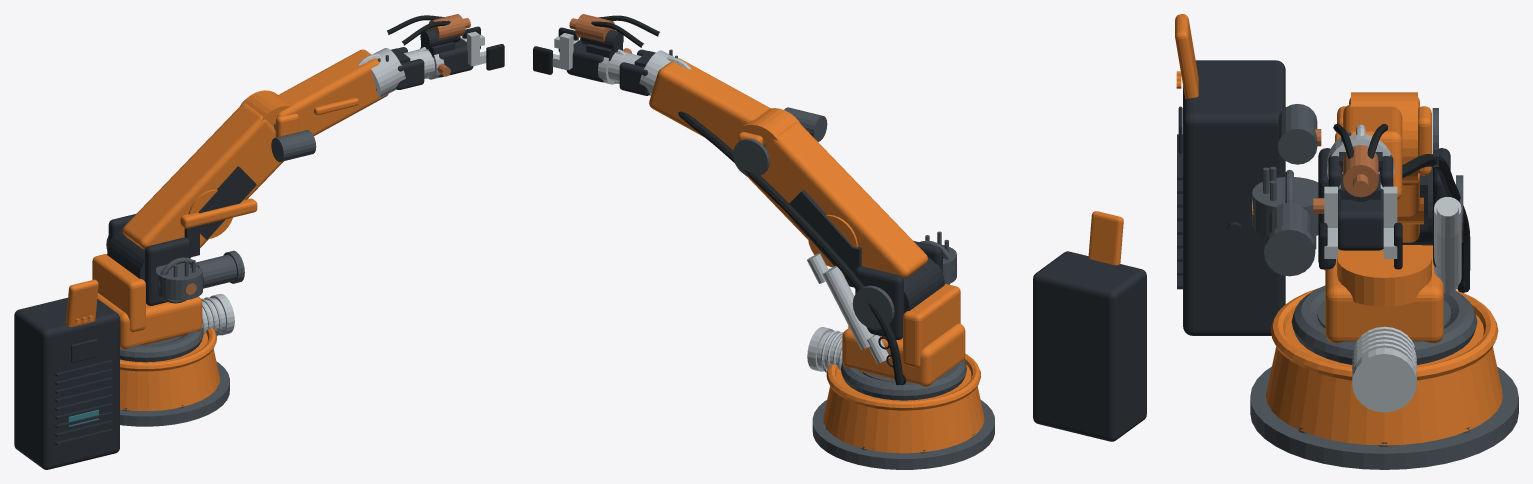
Rendered from robot_arm.glb.
The picture shows the model from 3 angles, left to right: view 1: azimuth 30°, elevation 25°; view 2: azimuth 150°, elevation 25°; view 3: azimuth 270°, elevation 25°; orthographic projection. The views are drawn at different scales.
Parts seen in each view (by area): view 1: control_cabinet, upper_arm, turret, base_housing, forearm, j2_motor, j2_yoke, base_plate, upper_arm_ribs, j1_gearbox, elbow_housing, gripper_body (+9 smaller); view 2: control_cabinet, upper_arm, base_housing, turret, forearm, base_plate, j2_yoke, cable_harness, j1_gearbox, brakes, counterbalance, upper_arm_ribs (+12 smaller); view 3: control_cabinet, base_housing, turret, base_plate, j2_motor, j1_motor, j1_gearbox, elbow_housing, gripper_body, counterbalance, forearm, j3_motor (+11 smaller).
Boxes of the visible parts, <box> form: control_cabinet: <box>14,297,119,469</box>; upper_arm: <box>122,103,283,257</box>; turret: <box>92,254,202,349</box>; base_housing: <box>120,327,219,410</box>; forearm: <box>277,49,388,135</box>; j2_motor: <box>155,250,244,303</box>; j2_yoke: <box>107,214,190,305</box>; base_plate: <box>120,361,229,426</box>; upper_arm_ribs: <box>184,166,256,257</box>; j1_gearbox: <box>120,327,203,362</box>; elbow_housing: <box>241,90,298,137</box>; gripper_body: <box>420,29,473,77</box>; control_cabinet: <box>1033,251,1146,441</box>; upper_arm: <box>747,122,927,288</box>; base_housing: <box>823,353,984,453</box>; turret: <box>842,284,965,386</box>; forearm: <box>649,58,770,147</box>; base_plate: <box>812,400,994,469</box>; j2_yoke: <box>855,241,944,339</box>; cable_harness: <box>678,111,906,385</box>; j1_gearbox: <box>840,360,966,400</box>; brakes: <box>733,138,894,329</box>; counterbalance: <box>807,253,889,363</box>; upper_arm_ribs: <box>785,189,861,287</box>; control_cabinet: <box>1177,60,1285,335</box>; base_housing: <box>1266,288,1502,445</box>; turret: <box>1324,245,1443,342</box>; base_plate: <box>1250,366,1518,469</box>; j2_motor: <box>1252,166,1318,276</box>; j1_motor: <box>1352,326,1416,412</box>; j1_gearbox: <box>1291,285,1477,364</box>; elbow_housing: <box>1337,92,1431,182</box>; gripper_body: <box>1338,174,1383,250</box>; counterbalance: <box>1434,197,1461,293</box>; forearm: <box>1335,104,1402,199</box>; j3_motor: <box>1278,104,1317,164</box>.
Bounding box in the file's own units: 2.33 × 1.37 × 0.87.
